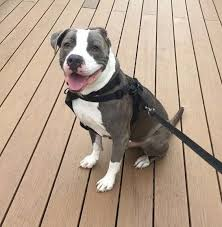dog_sitting: (49, 26, 184, 197)
